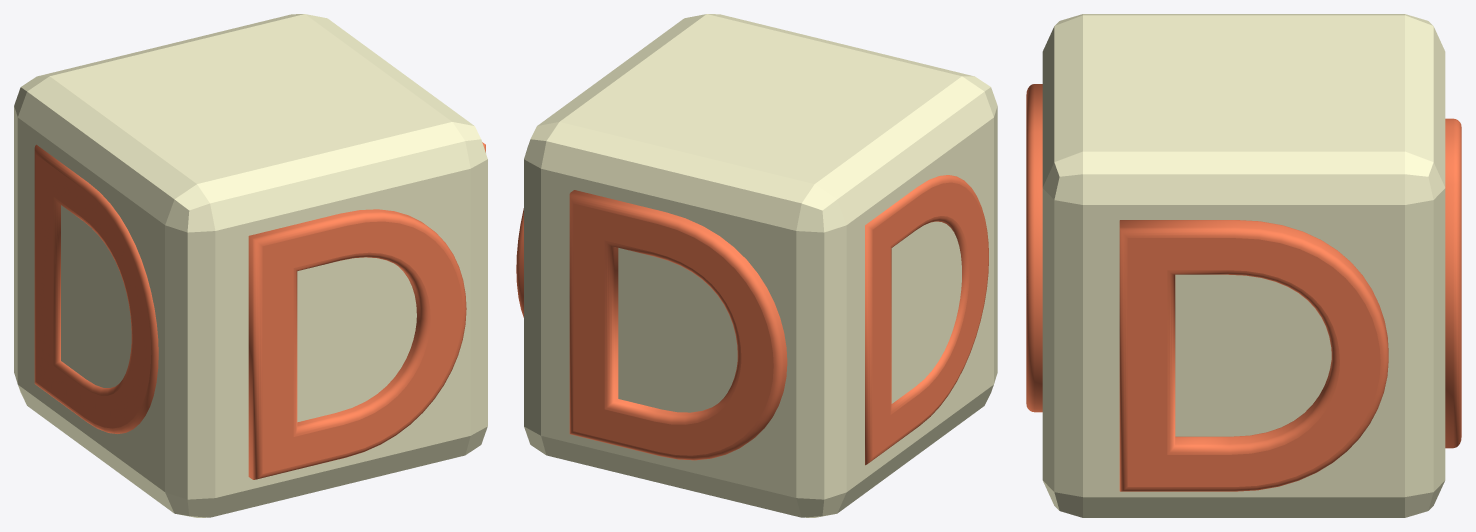
3 views of the same model, side by side, from view 1: azimuth 30°, elevation 25°; view 2: azimuth 150°, elevation 25°; view 3: azimuth 270°, elevation 25° (orthographic). The views are drawn at different scales.
Visible parts, largest first — view 1: D; view 2: D; view 3: D.
Part boxes in pixels (bbox=[...]): D: bbox=[14, 14, 487, 517]; D: bbox=[516, 14, 997, 517]; D: bbox=[1026, 14, 1461, 517].
Bounding box in the file's own units: 216 × 200 × 216.
